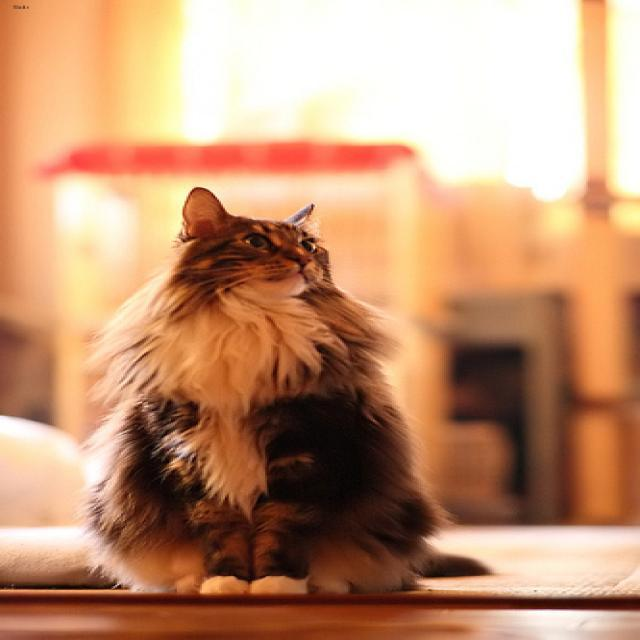Maine_Coon: (168, 179, 353, 308)
